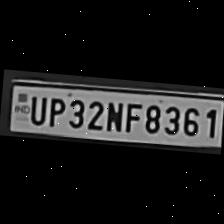1: (200, 104, 221, 138)
2: (83, 96, 105, 131)
3: (63, 94, 85, 129), (160, 102, 181, 136)
6: (178, 104, 201, 138)
8: (140, 100, 162, 135)
F: (120, 99, 141, 134)
N: (103, 97, 125, 132)
P: (43, 94, 65, 128)
U: (26, 92, 46, 124)
